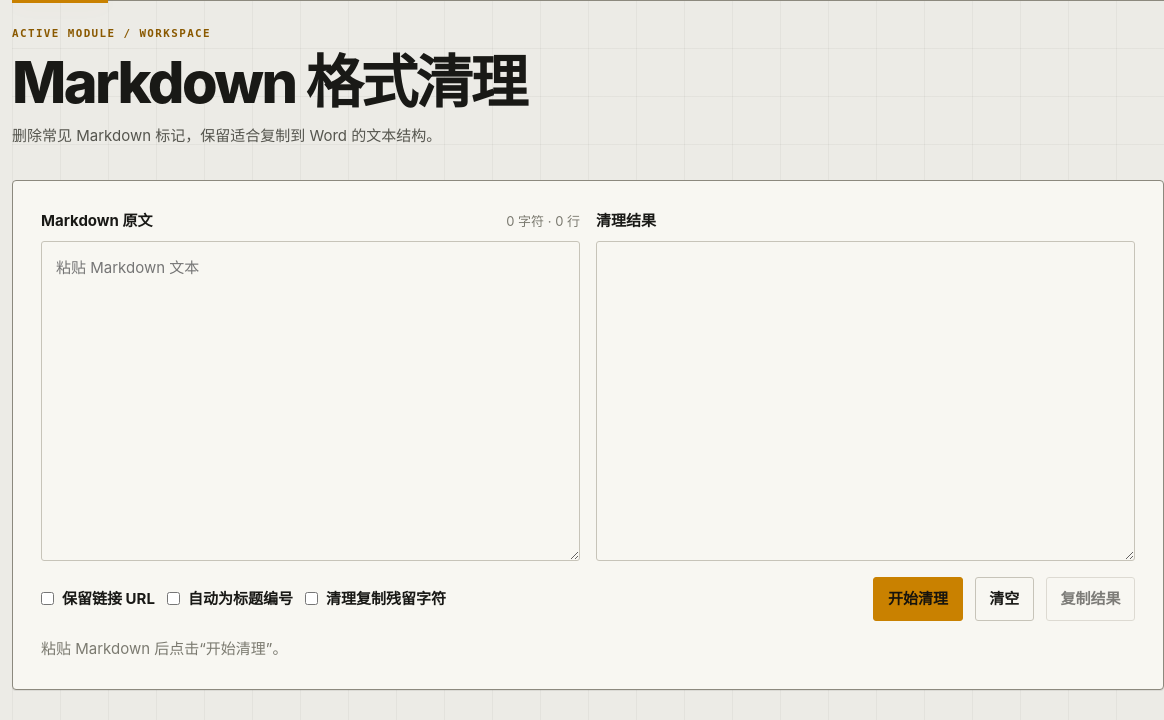
Scenario: MarkdownTextCleanerView › clears fields and restores the default option
This screenshot has width=1164, height=720.
Type "[Link](https://example.com)" into the text box with id "markdown-source-text". click: [310, 401]
box: x1=41 y1=241 x2=580 y2=561
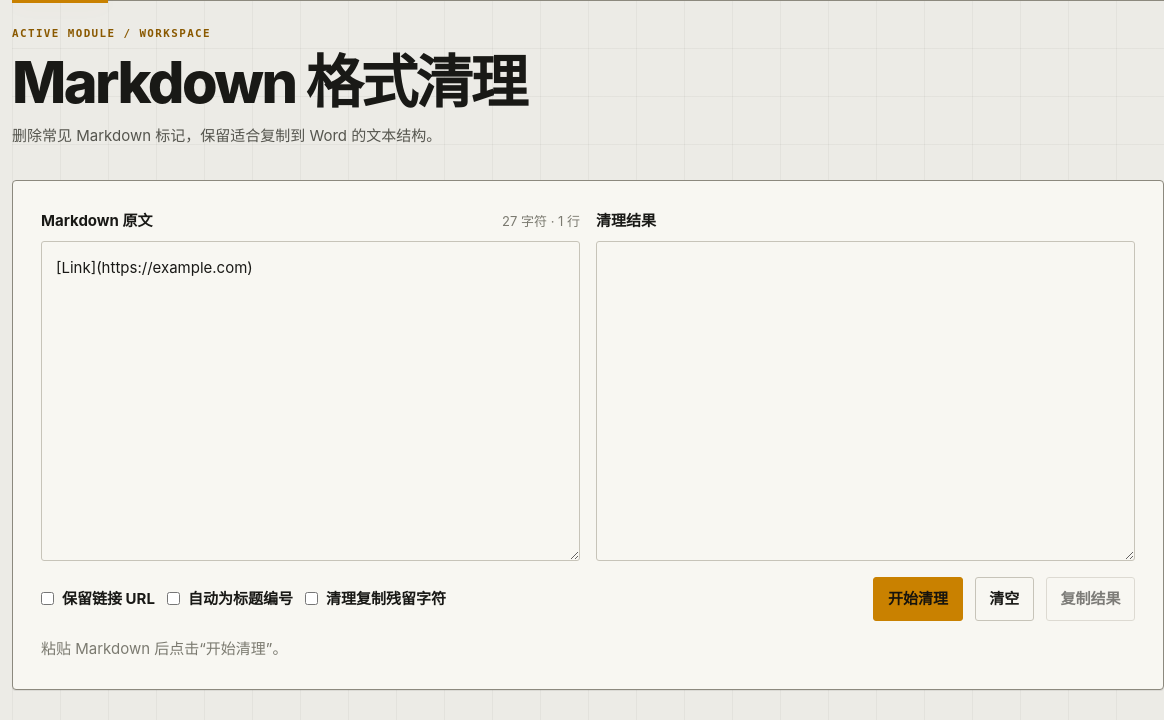
Click the checkbox labelled "保留链接 URL". click: [48, 599]
box: x1=41 y1=592 x2=54 y2=605
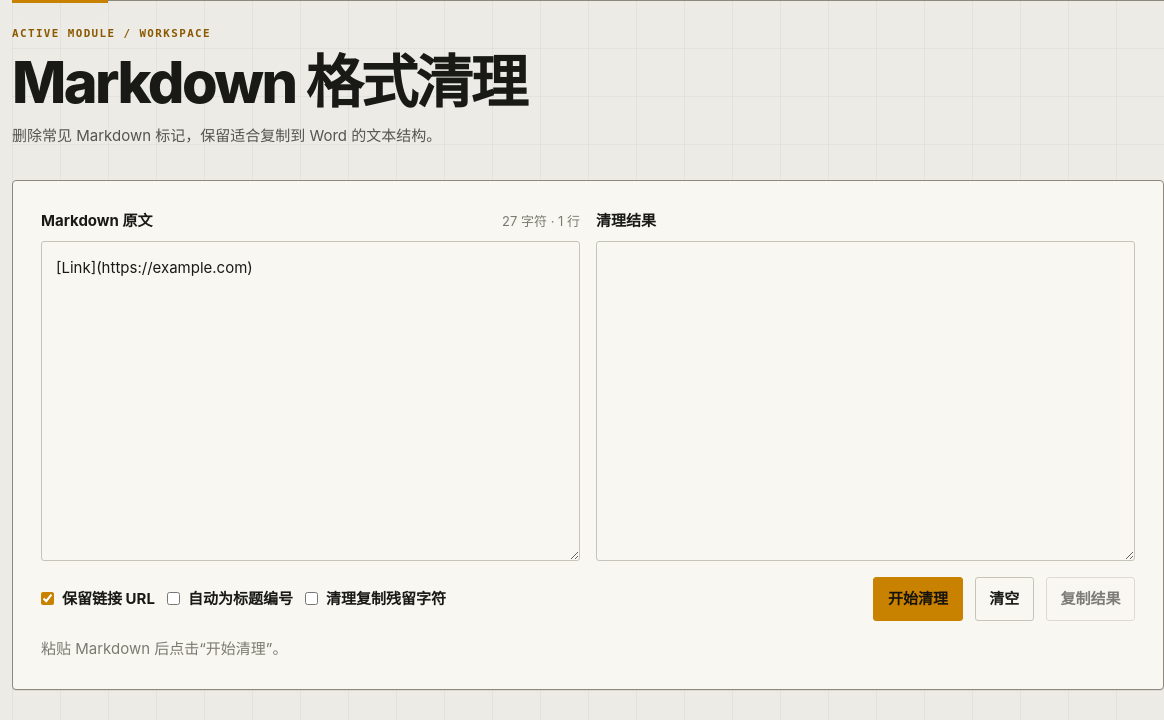
Click the checkbox labelled "自动为标题编号". click: [173, 599]
box: x1=167 y1=592 x2=180 y2=605
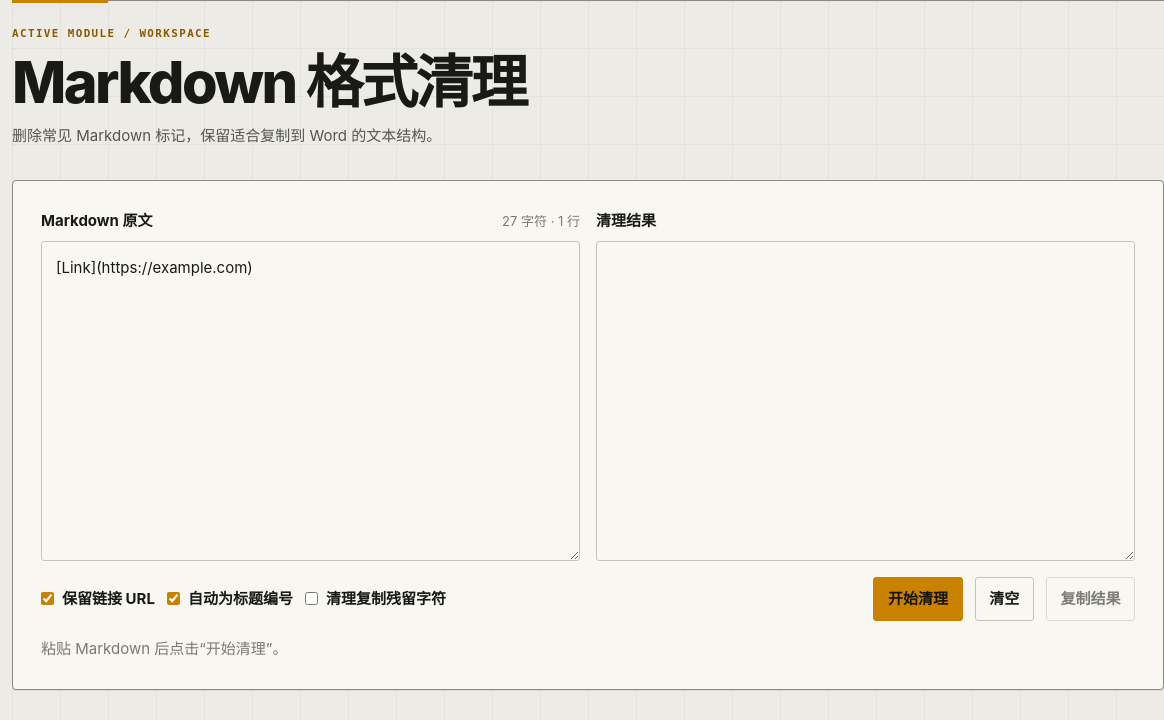
Click the checkbox labelled "清理复制残留字符". click: [311, 599]
box: x1=305 y1=592 x2=318 y2=605
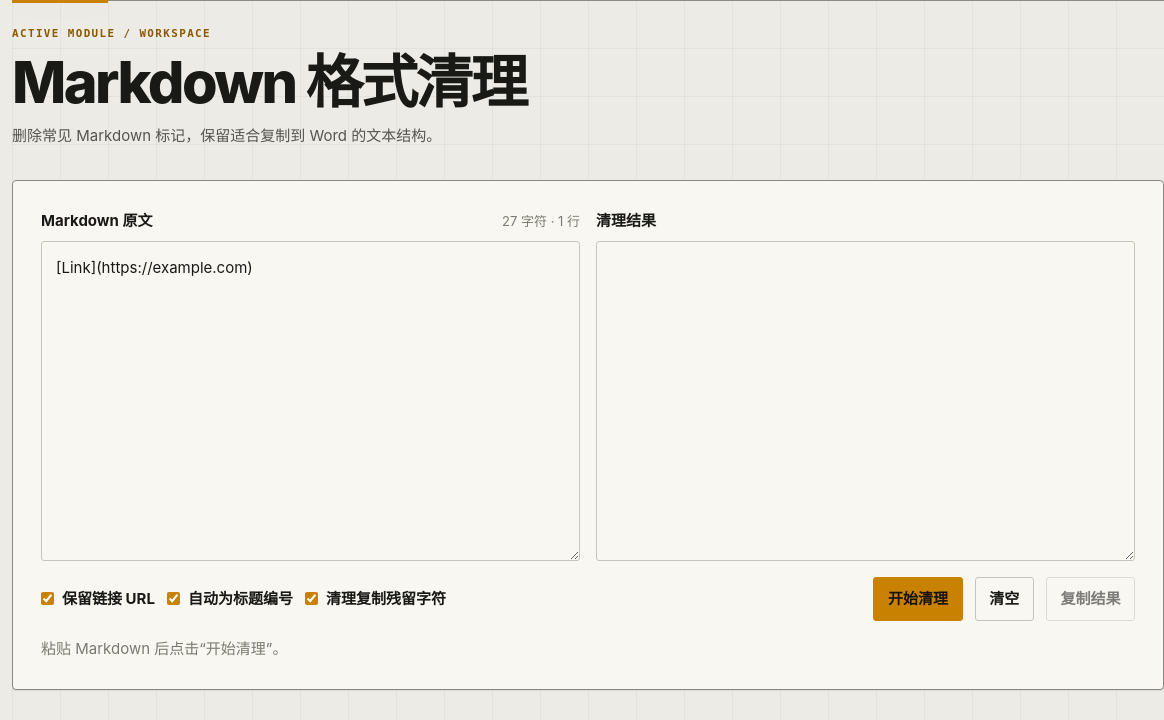
Click the button "开始清理". click: [918, 599]
box: x1=873 y1=577 x2=963 y2=621
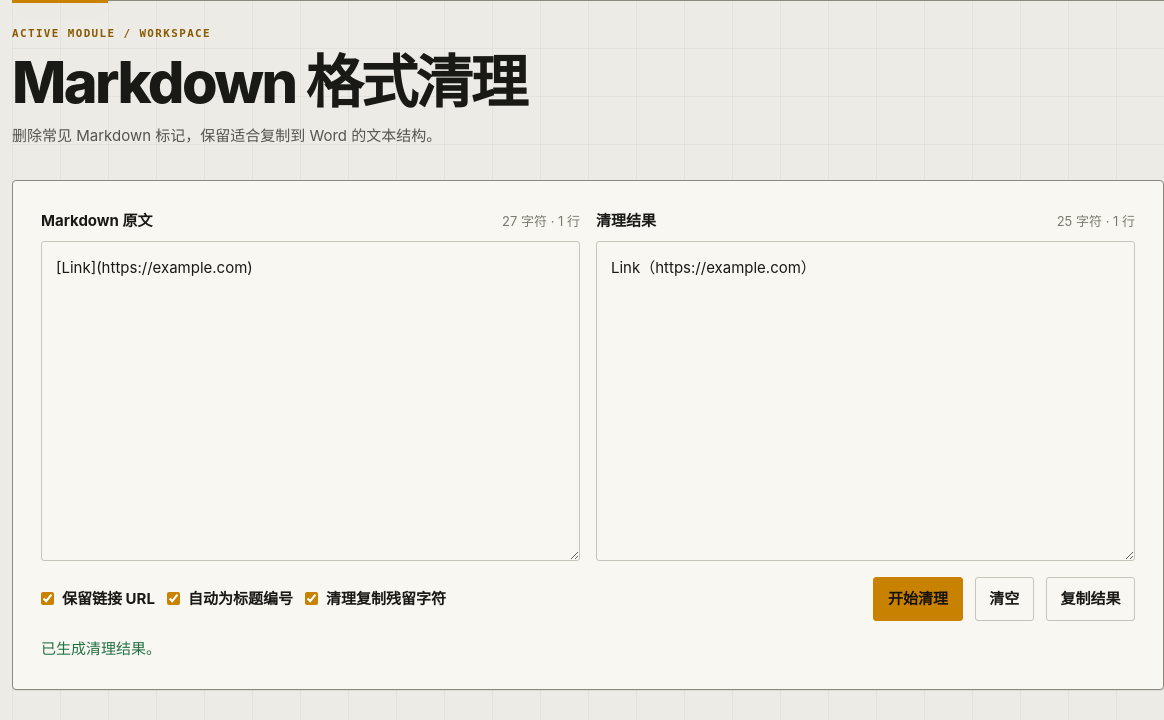
Click the button "清空". click: [1004, 599]
box: x1=975 y1=577 x2=1034 y2=621
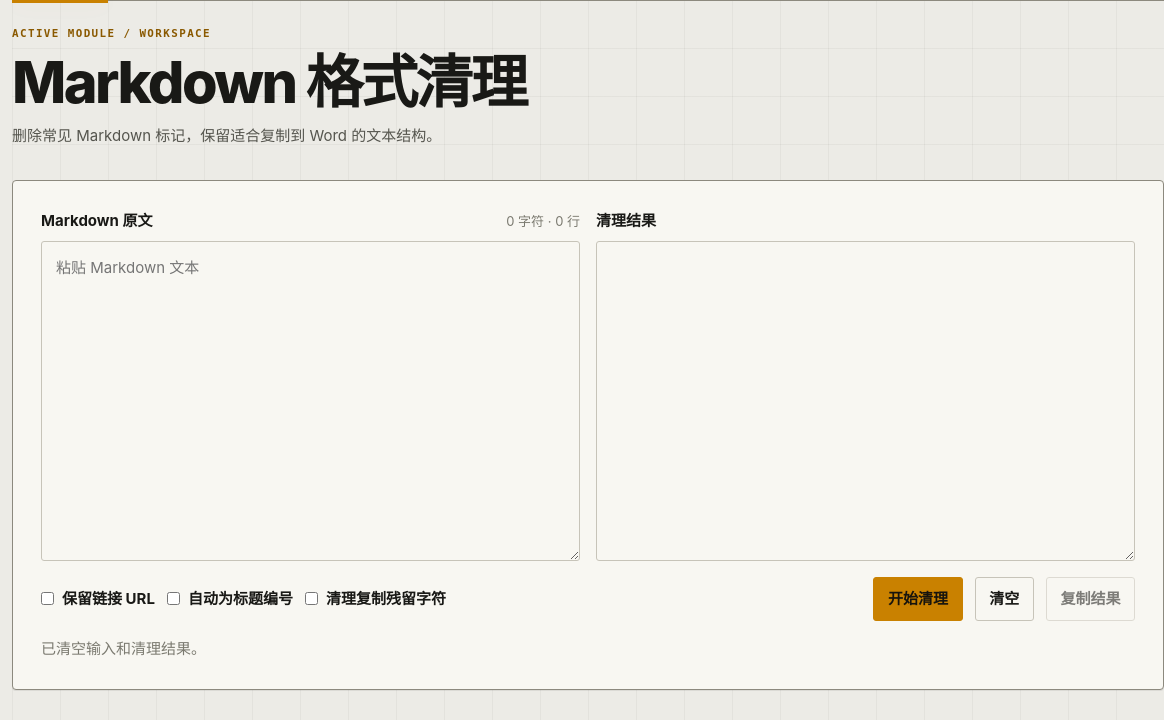
Check: the checkbox labelled "保留链接 URL" is not checked, box x1=41 y1=592 x2=54 y2=605
Check: the checkbox labelled "自动为标题编号" is not checked, box x1=167 y1=592 x2=180 y2=605
Check: the text box with id "markdown-source-text" is empty, box x1=41 y1=241 x2=580 y2=561
